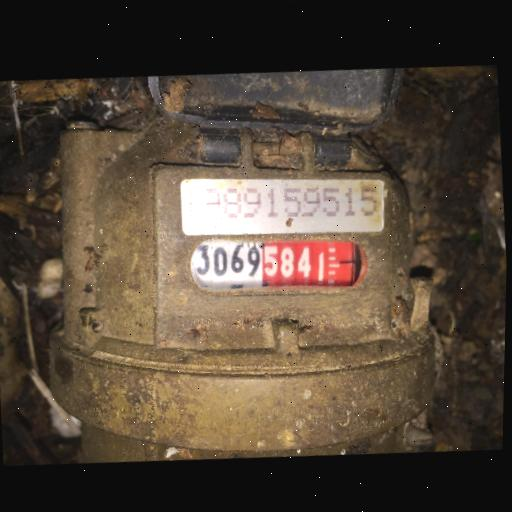0: (209, 238, 233, 291)
1: (310, 239, 330, 287)
3: (191, 239, 214, 292)
4: (292, 240, 316, 287)
5: (259, 240, 282, 288)
6: (227, 239, 249, 289)
8: (276, 239, 298, 287)
9: (243, 241, 265, 290)
border_water_meter_number: (186, 224, 371, 305)
